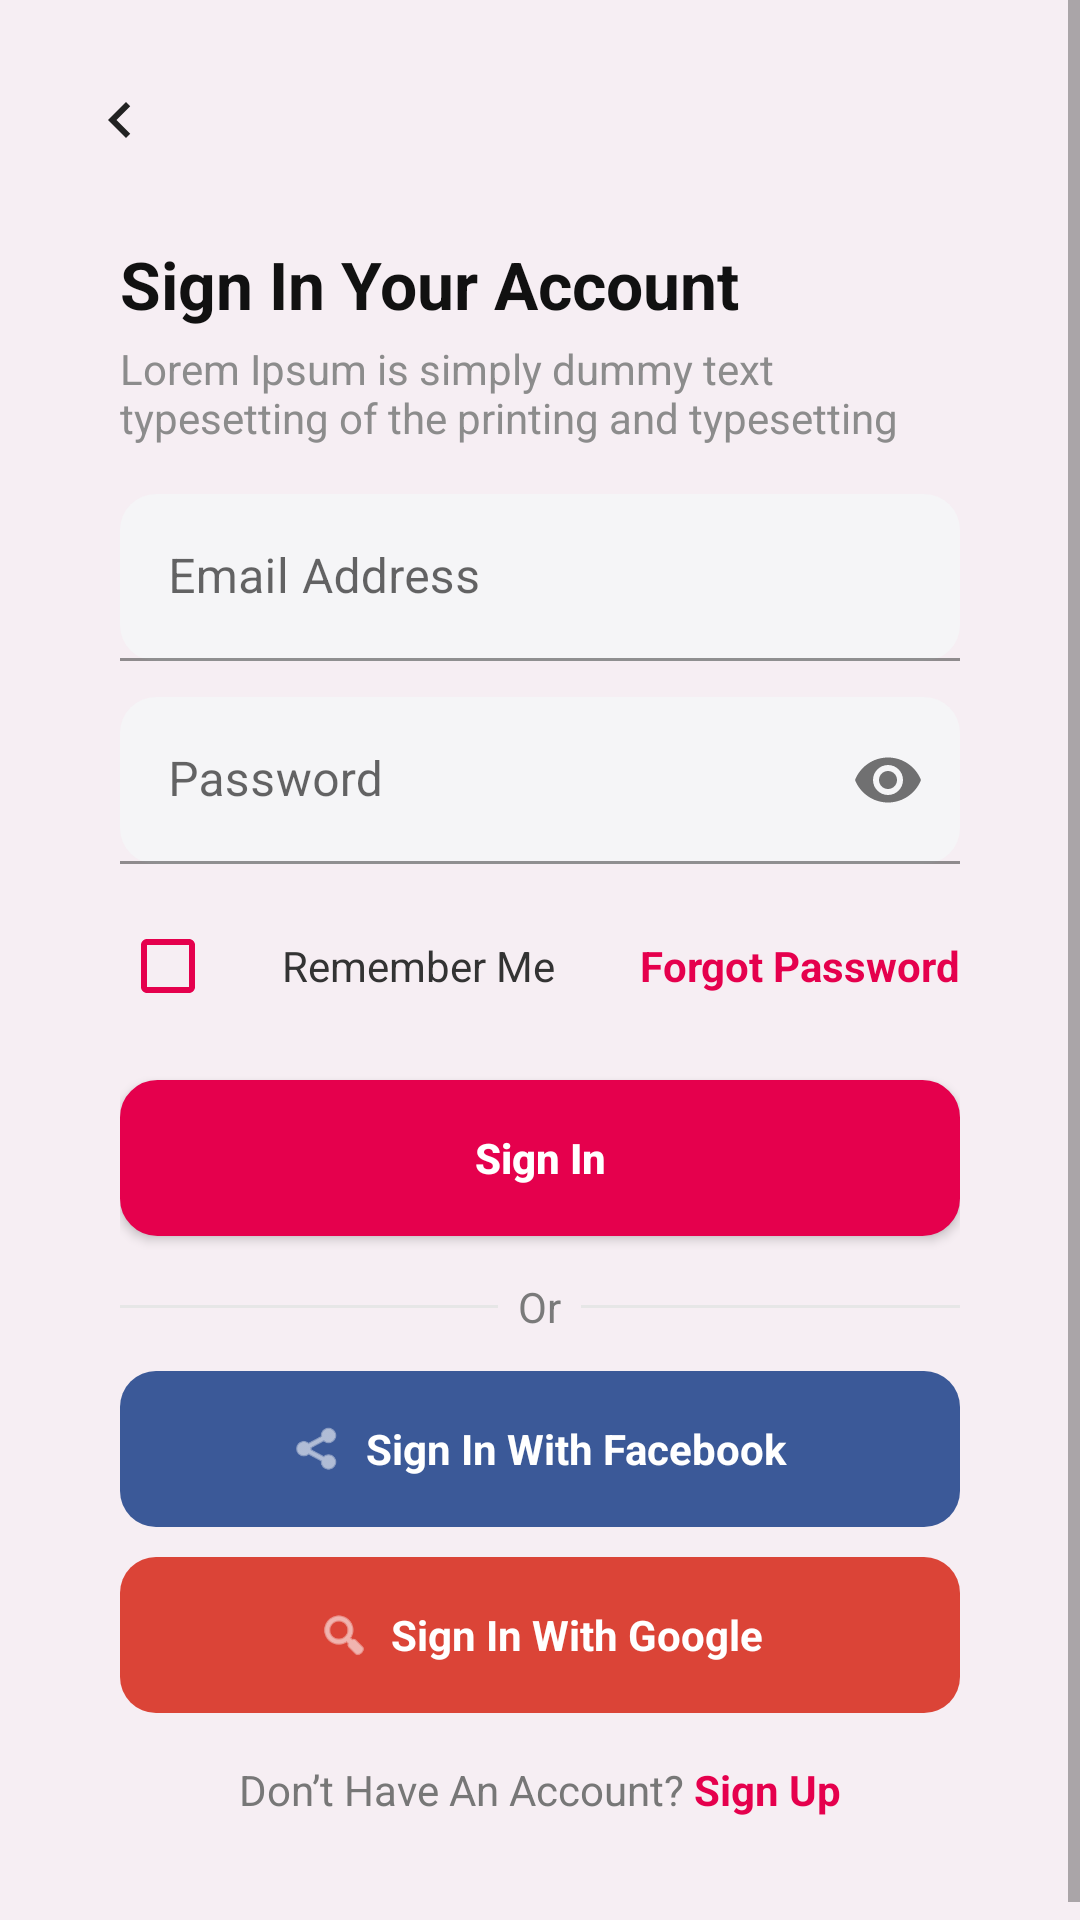

Icon bounding boxes for this 1080w x 1920h phone screenshot, format (x1, y1, x2, y2):
arrow back: (108, 102, 130, 138)
search: (324, 1615, 364, 1655)
share: (296, 1428, 336, 1470)
